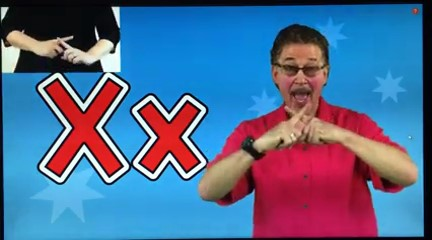X: (257, 96, 339, 156)
